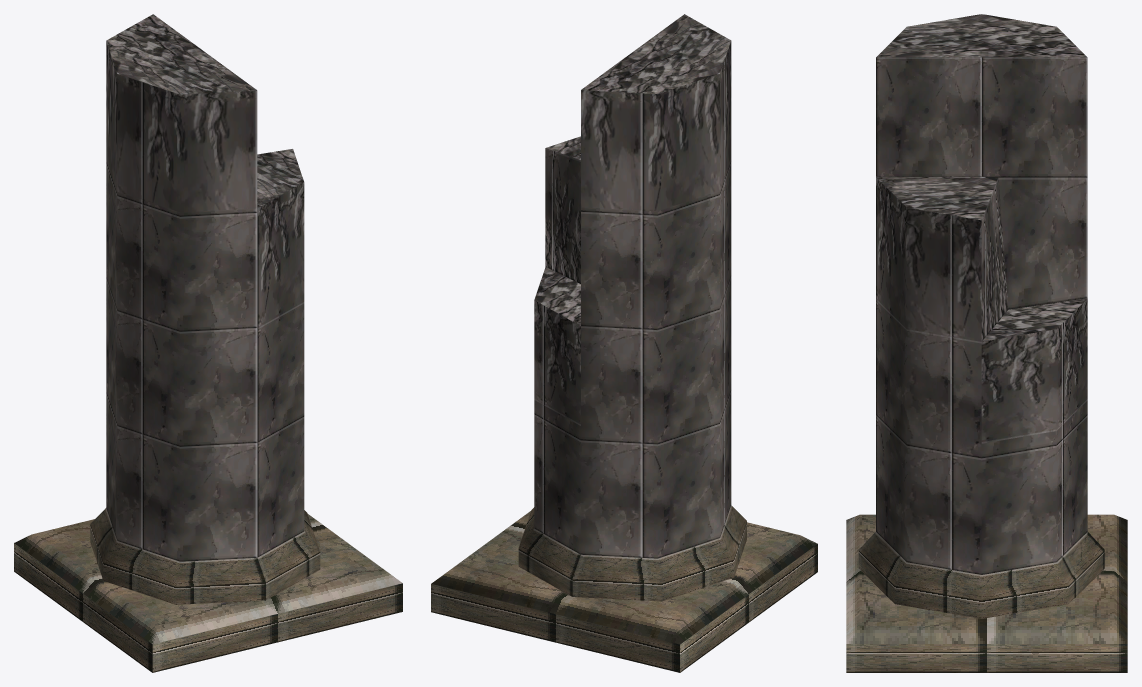
File: INST_SM_COLUMN_BROKENA.fbx
3 views of the same model, side by side, from view 1: azimuth 30°, elevation 25°; view 2: azimuth 150°, elevation 25°; view 3: azimuth 270°, elevation 25° (orthographic). The views are drawn at different scales.
Visible parts, largest first — view 1: INST_SM_COLUMN_BROKENA; view 2: INST_SM_COLUMN_BROKENA; view 3: INST_SM_COLUMN_BROKENA.
Part boxes in pixels (x1,y1,x2,y2): INST_SM_COLUMN_BROKENA: [14, 14, 402, 672]; INST_SM_COLUMN_BROKENA: [431, 14, 817, 672]; INST_SM_COLUMN_BROKENA: [846, 14, 1127, 672].
Bounding box in the file's own units: 44392 × 91942 × 42518.
Materials: 4 (4 with a texture image).
